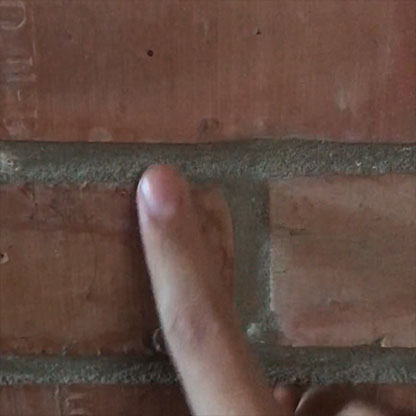fingertip: (128, 158, 200, 233)
